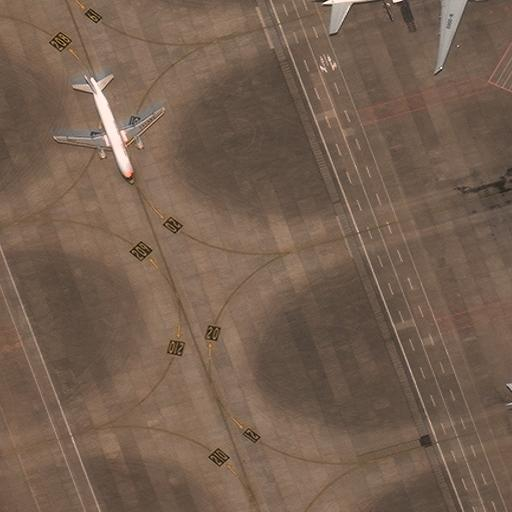Large Civil Transport: (314, 0, 507, 69)
Medium Civil Transport: (56, 74, 164, 184)
